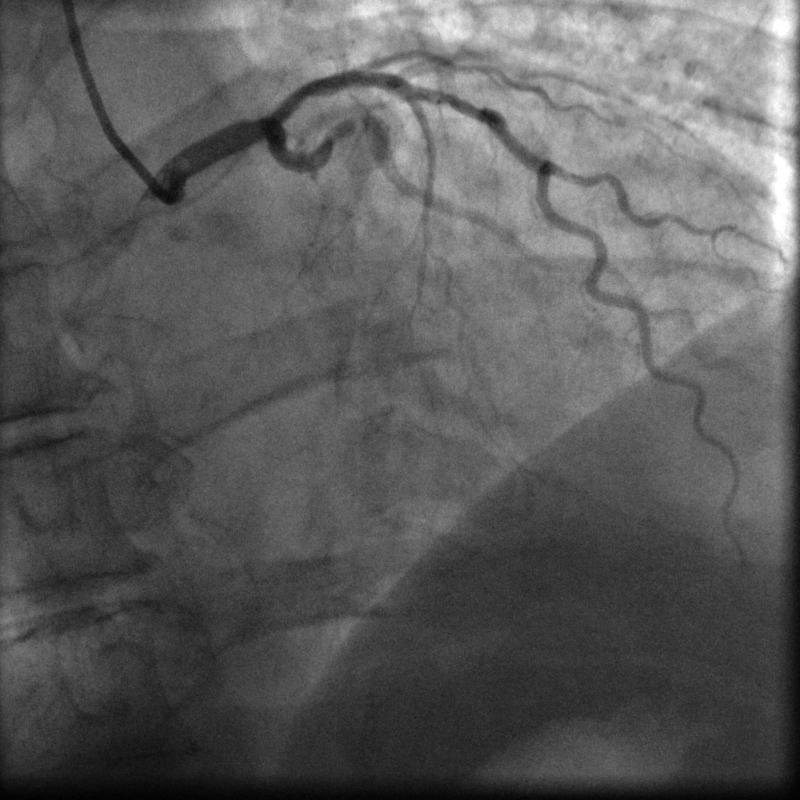Stenosis: (324, 115, 380, 138)
